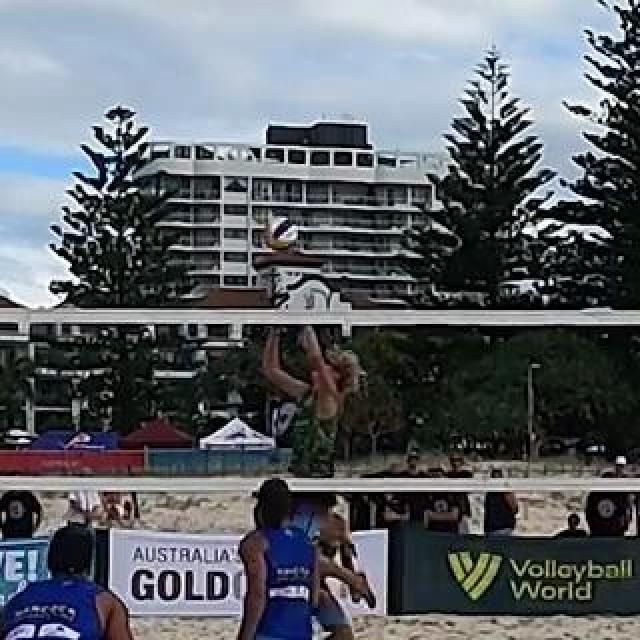volleyball: (269, 220, 297, 248)
